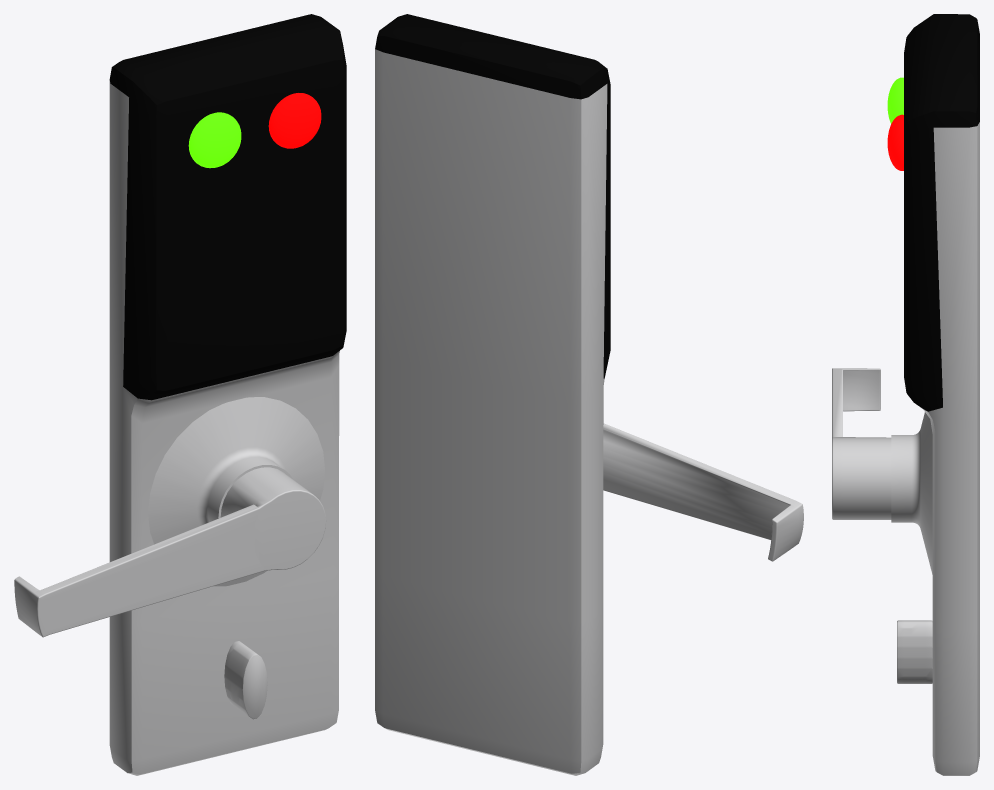
The model's file is EH Card Door Handle.fbx.
The picture shows the model from 3 angles, left to right: view 1: azimuth 30°, elevation 25°; view 2: azimuth 150°, elevation 25°; view 3: azimuth 270°, elevation 25°; orthographic projection. The views are drawn at different scales.
Visible parts, largest first — view 1: Box001, Handle001, Handle Base001, Cylinder001, Sphere001, Sphere002; view 2: Box001, Handle001; view 3: Box001, Handle001, Handle Base001, Cylinder001, Sphere002, Sphere001.
Boxes of the visible parts, box(x1,y1,x2,y2) form: Box001: box(109, 14, 346, 775); Handle001: box(14, 467, 326, 637); Handle Base001: box(148, 397, 324, 586); Cylinder001: box(224, 641, 267, 719); Sphere001: box(188, 112, 241, 168); Sphere002: box(268, 93, 321, 148); Box001: box(375, 14, 610, 775); Handle001: box(603, 423, 803, 561); Box001: box(904, 14, 979, 775); Handle001: box(832, 368, 891, 519); Handle Base001: box(891, 412, 932, 574); Cylinder001: box(897, 620, 932, 683); Sphere002: box(887, 114, 903, 170); Sphere001: box(887, 77, 903, 123).
Size of the model in its own units: 8.81 by 16.51 by 3.28.
